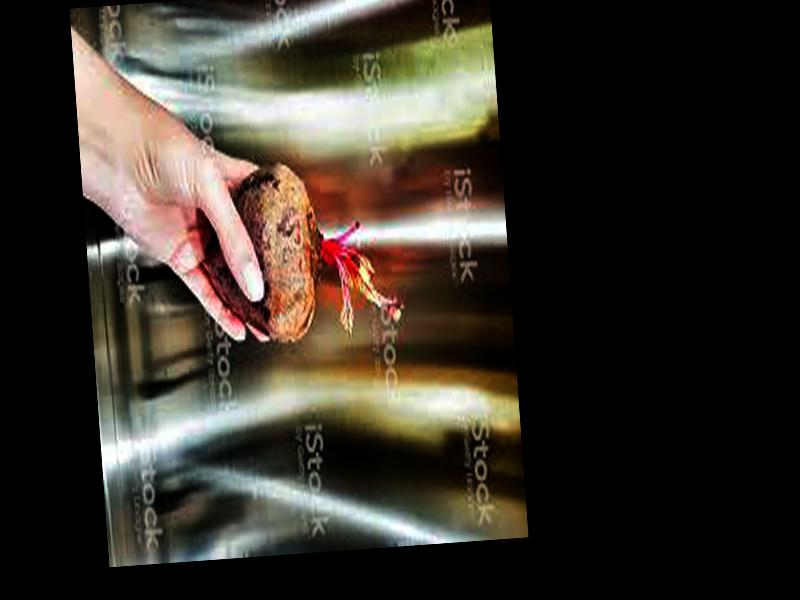Beet: (198, 158, 400, 348)
